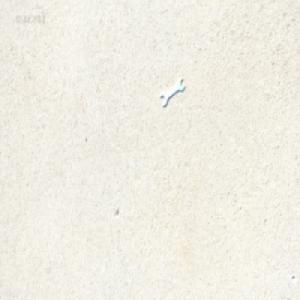Wrench: (161, 79, 184, 108)
